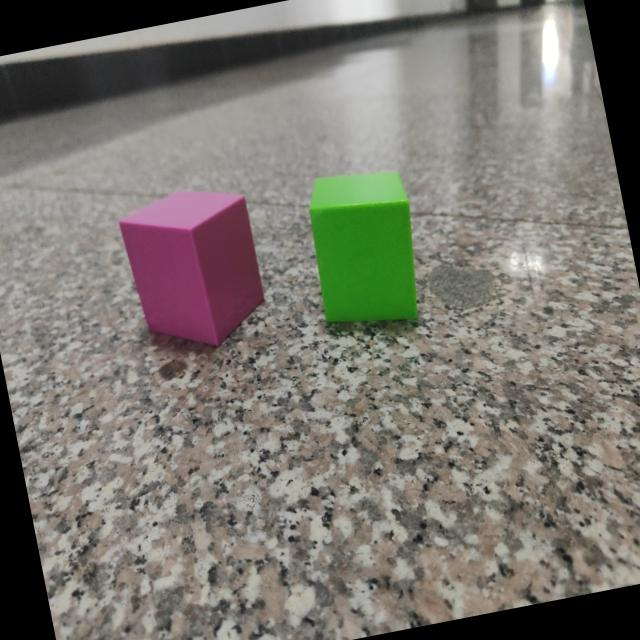green: (309, 171, 420, 328)
pink: (118, 191, 266, 349)
